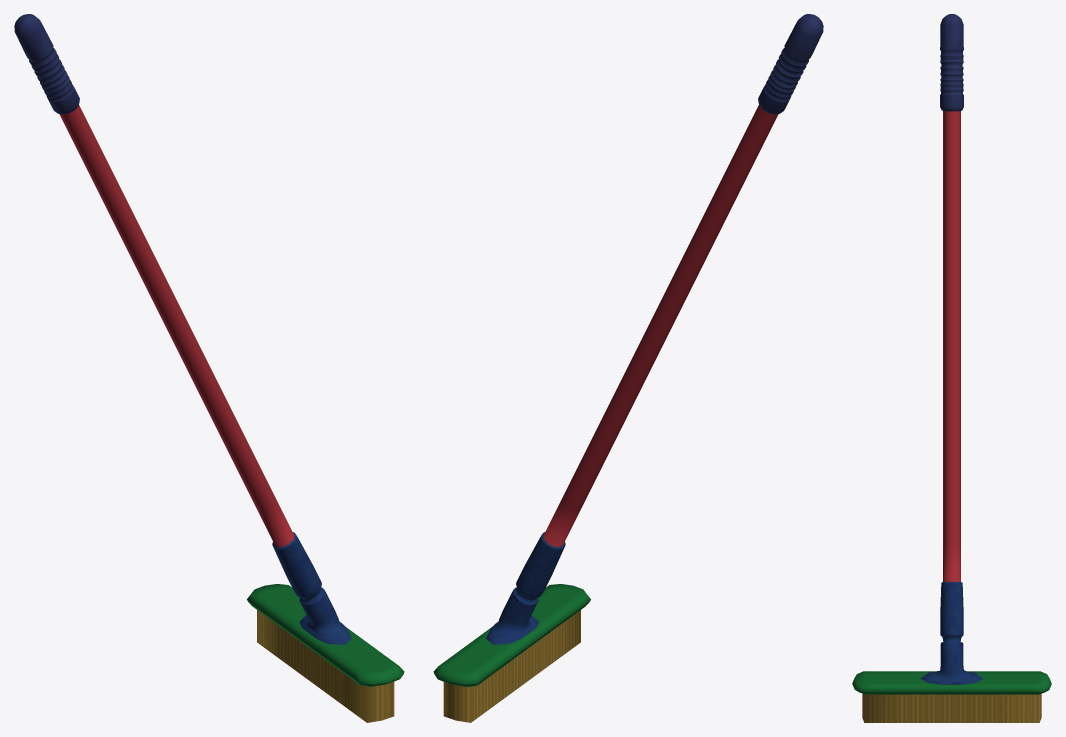
The model's file is big broom scene 1.fbx.
The picture shows the model from 3 angles, left to right: view 1: azimuth 30°, elevation 25°; view 2: azimuth 150°, elevation 25°; view 3: azimuth 270°, elevation 25°; orthographic projection. The views are drawn at different scales.
Visible parts, largest first — view 1: kost; view 2: kost; view 3: kost.
Part boxes in pixels (x1,y1,x2,y2): kost: (14,14,404,722); kost: (433,14,823,722); kost: (852,14,1051,722).
Size of the model in its own units: 471 by 1002 by 308.
